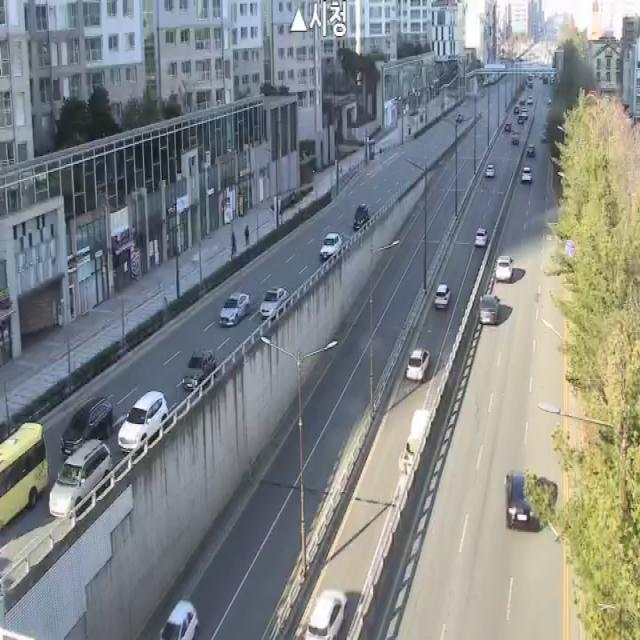Bus: (0, 420, 49, 532)
Car: (48, 438, 112, 518), (118, 389, 170, 454), (60, 396, 112, 459), (305, 589, 347, 640), (505, 470, 539, 530), (159, 598, 198, 640), (182, 346, 217, 391), (219, 291, 250, 326), (258, 287, 288, 319), (406, 348, 430, 381), (478, 295, 500, 324), (320, 232, 342, 260), (353, 205, 370, 231), (496, 256, 513, 281), (434, 284, 450, 309), (475, 228, 488, 246), (522, 167, 532, 181), (511, 130, 519, 146), (526, 144, 535, 157), (486, 165, 495, 177), (504, 121, 512, 132)
